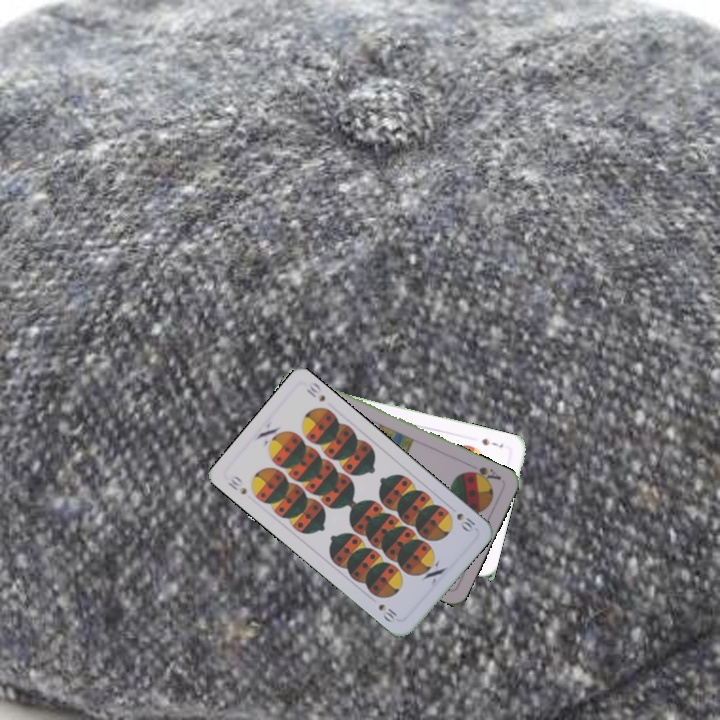S10: (452, 509, 478, 535), (224, 472, 249, 497)
S7: (478, 434, 506, 450)
SA: (464, 463, 504, 485)
